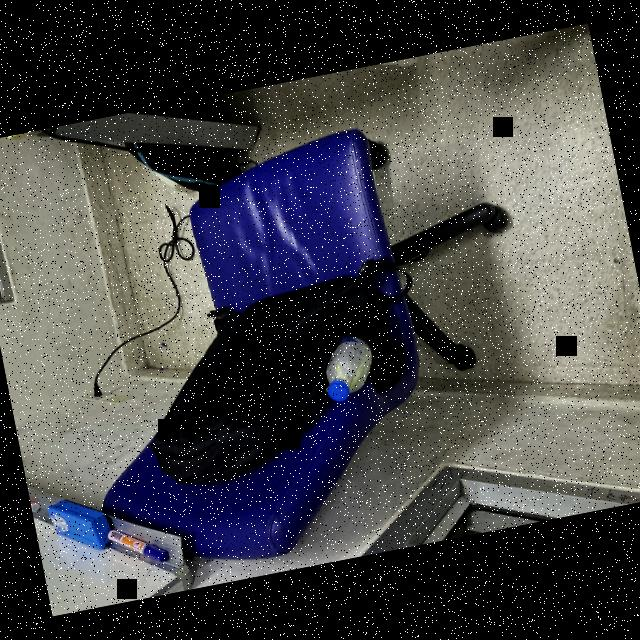plastic_bottle: (310, 329, 385, 404)
plastic_bottle_cap: (324, 378, 352, 404)
straw: (332, 348, 376, 393)
